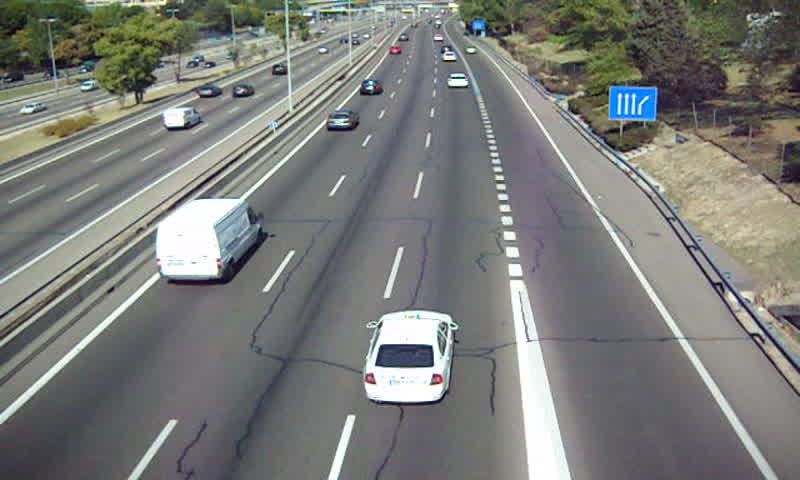car: (363, 311, 452, 403), (326, 110, 360, 131), (358, 79, 382, 97), (445, 73, 470, 89)
van: (156, 198, 260, 282)
